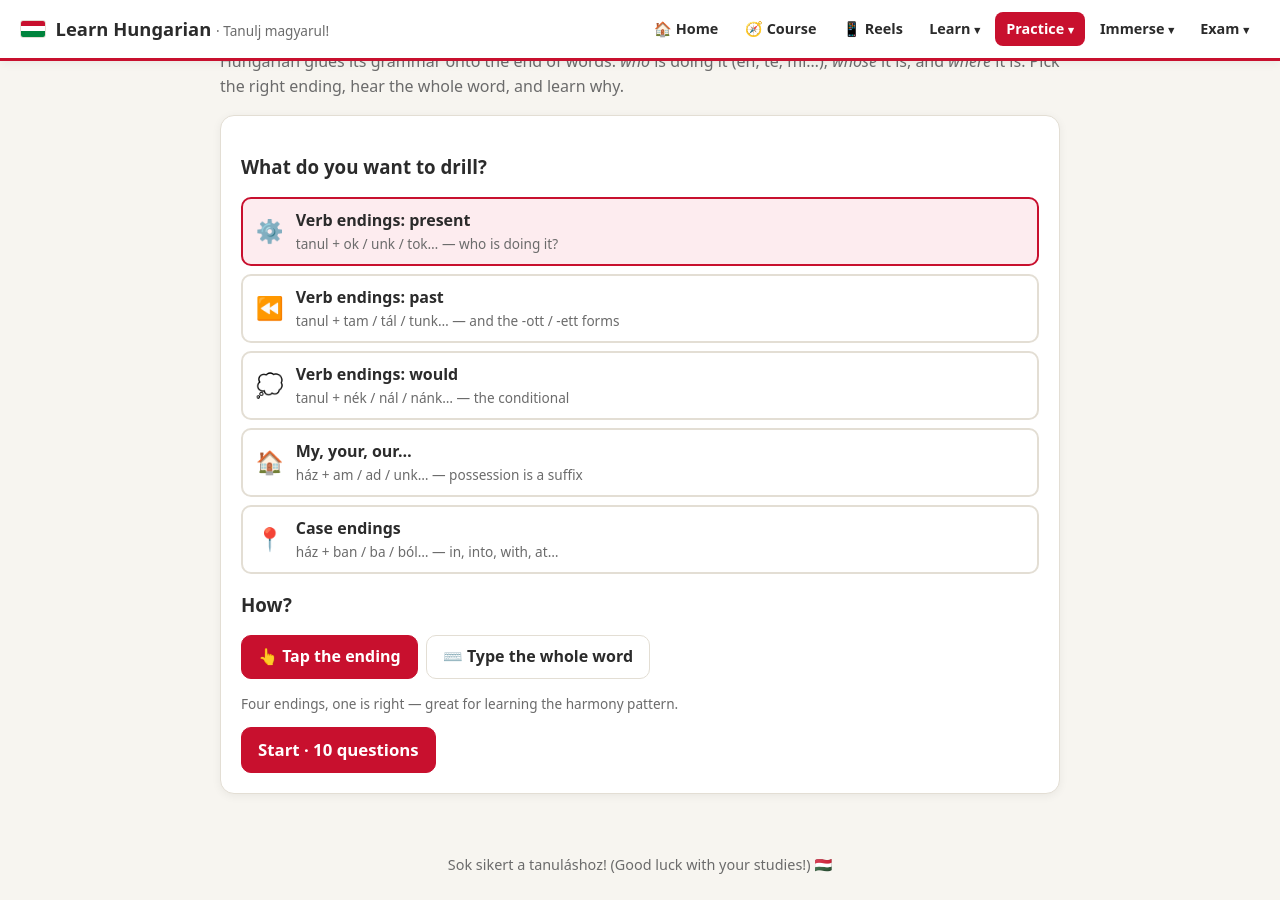
Test case: App (smoke test) › runs a suffix lab drill from setup to the first answer
(page scrolled)
Click the button "Start · 10 questions" at point(338, 750), box [241,727,436,773]
(page scrolled)
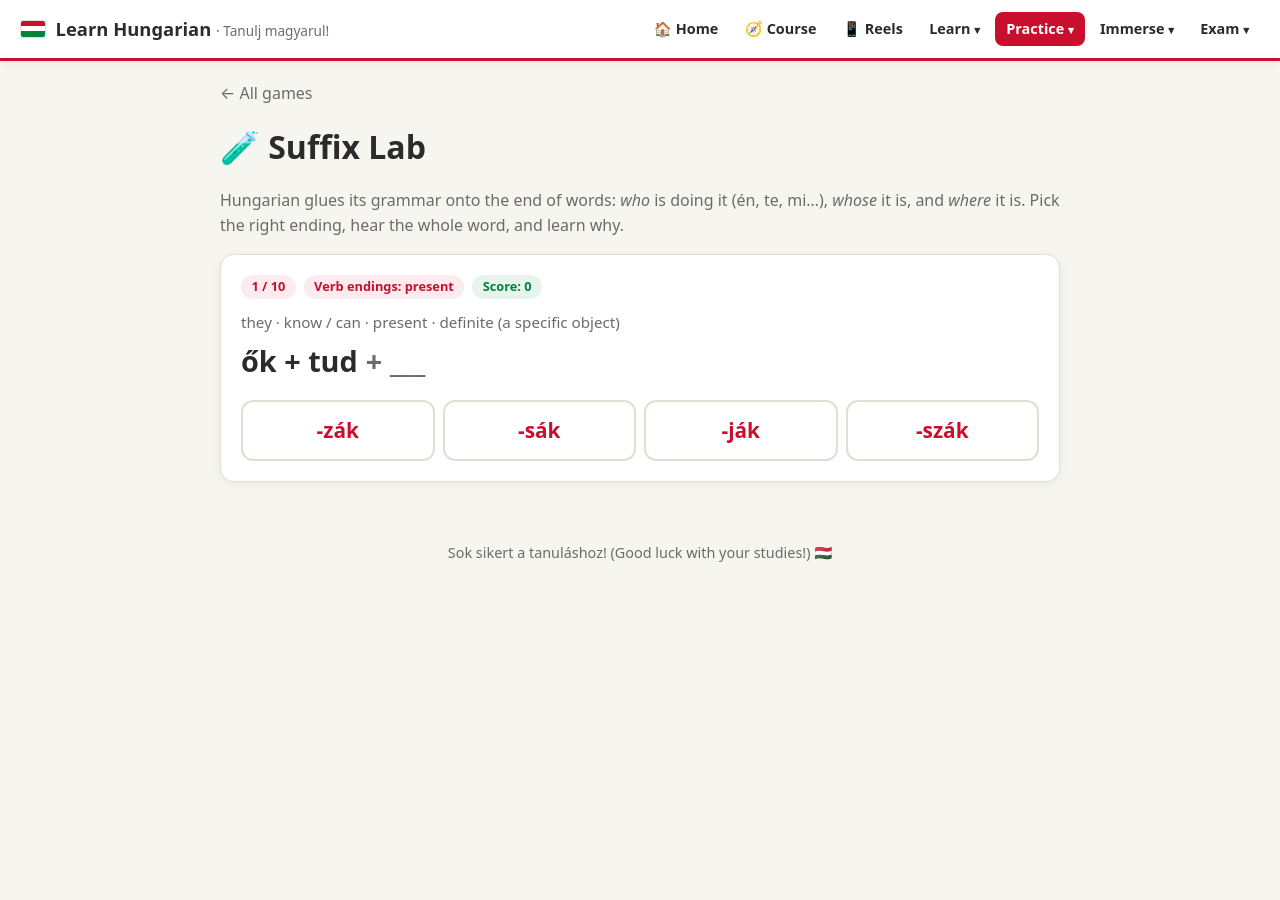
Now the text "1 / 10" is shown, box [241,275,296,299]
Now the button with class "choice" shows "-"
Click the button with class "choice" showing "-zák" at point(338, 430), box [241,400,434,461]
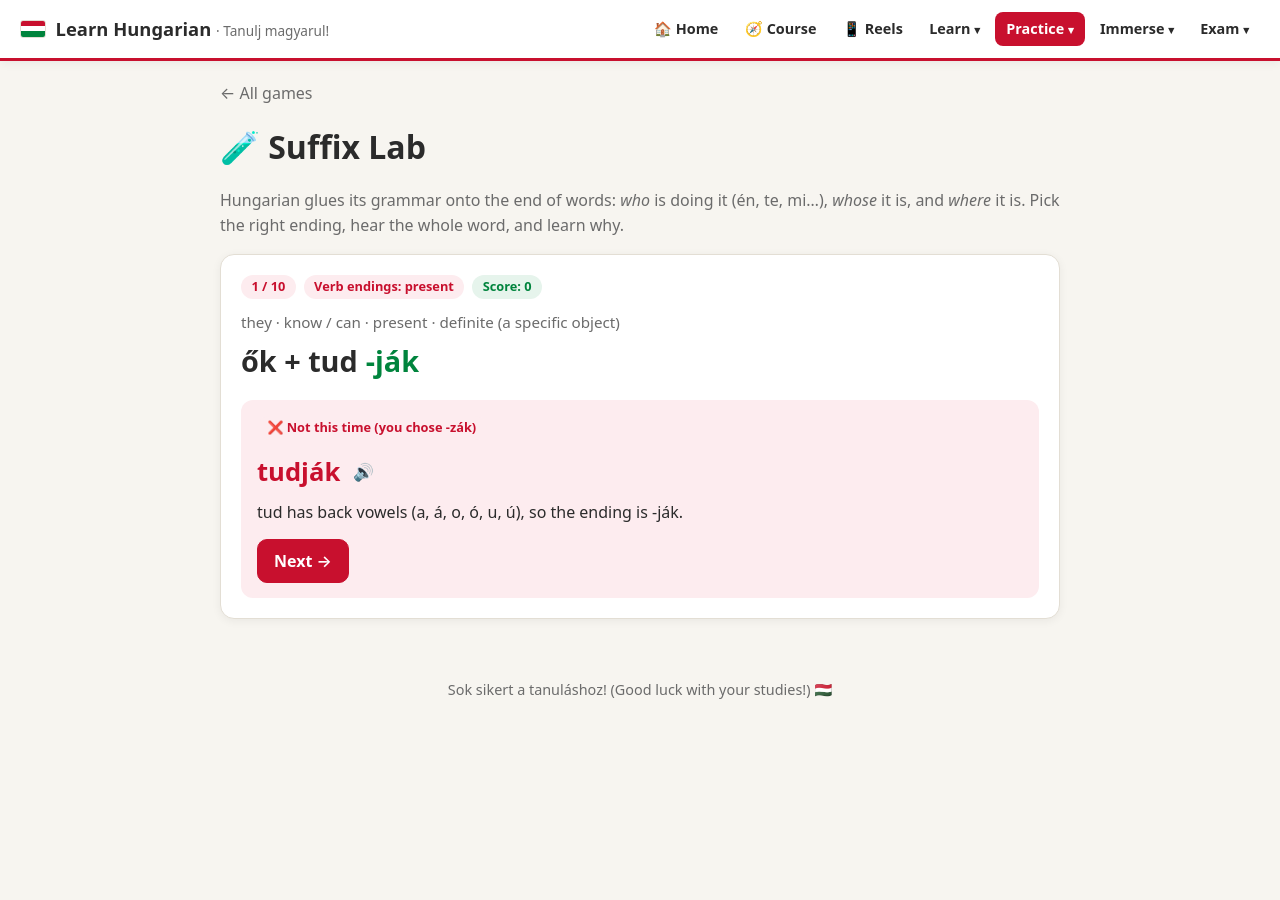
Now the text "❌ Not this time (you chose -zák)" is shown, box [257,416,487,440]
Now the text "vowels" is shown, box [257,501,683,523]
Now the text "Next →" is shown, box [257,539,349,583]
